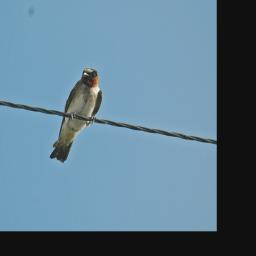Swallow: (48, 66, 103, 163)
